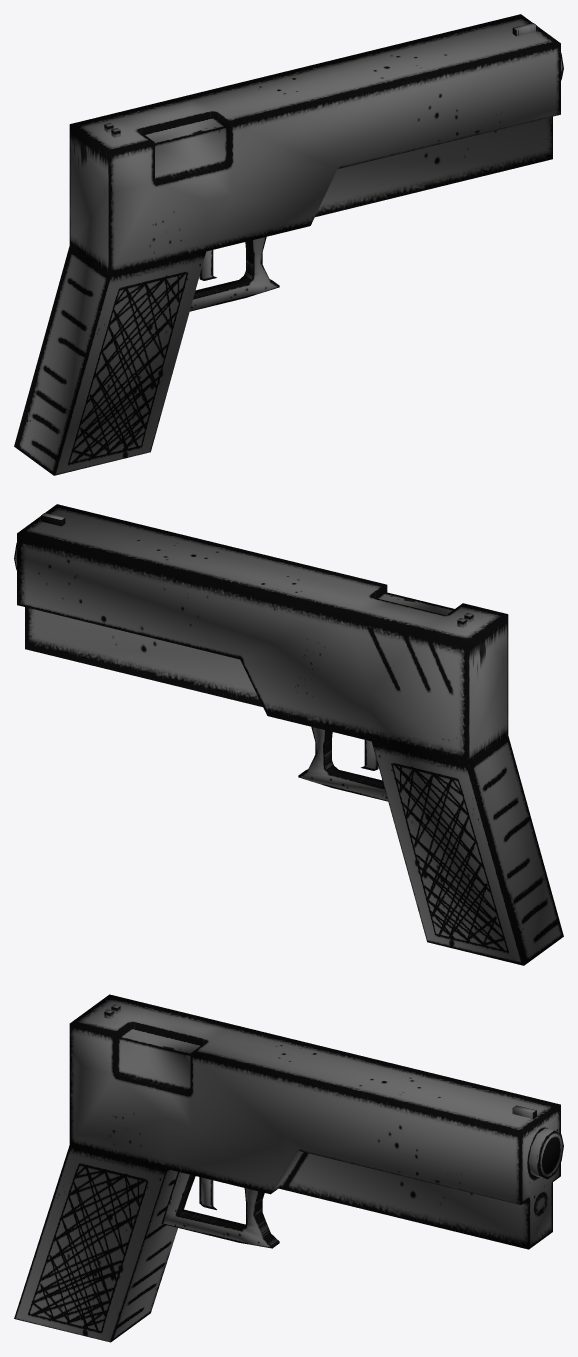
File: pistol.obj
3 views of the same model, one above another, from view 1: azimuth 30°, elevation 25°; view 2: azimuth 150°, elevation 25°; view 3: azimuth 330°, elevation 25° (orthographic).
Visible parts, largest first — view 1: Pistol; view 2: Pistol; view 3: Pistol.
Part boxes in pixels (left/top/right/bottom): Pistol: left=14, top=14, right=563, bottom=475; Pistol: left=14, top=504, right=563, bottom=965; Pistol: left=14, top=994, right=563, bottom=1342.
Size of the model in its own units: 1.62 by 0.9399 by 0.2163.
